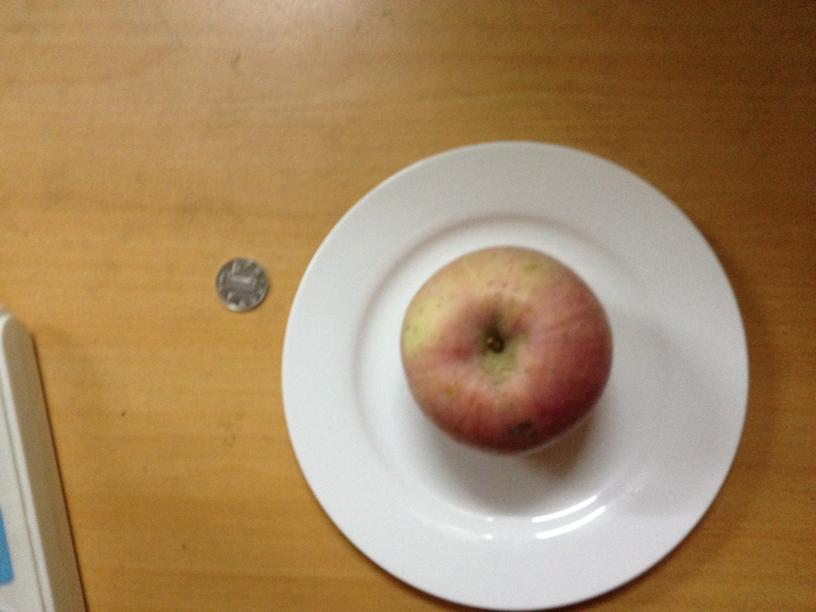apple: (401, 244, 614, 454)
coin: (215, 257, 268, 310)
